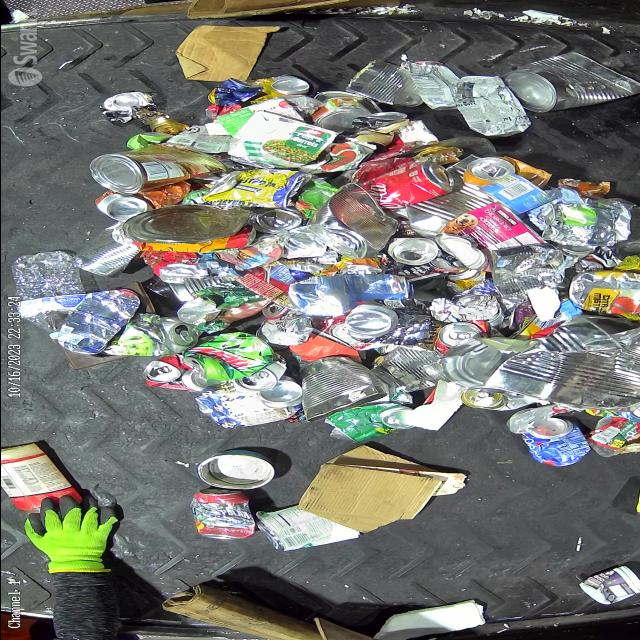can: (482, 313, 640, 412), (497, 51, 640, 113), (434, 202, 548, 272), (88, 143, 226, 195), (308, 182, 400, 260), (296, 355, 388, 421), (194, 375, 303, 429), (256, 504, 362, 551), (180, 331, 274, 381), (365, 160, 454, 210), (204, 168, 312, 208), (488, 243, 566, 297), (93, 180, 190, 222), (369, 346, 450, 394), (346, 59, 421, 107), (518, 416, 590, 466), (196, 448, 276, 491), (190, 488, 256, 540), (538, 201, 614, 246), (323, 404, 412, 442), (476, 172, 552, 215), (126, 314, 200, 356), (207, 75, 303, 107), (460, 155, 550, 189), (400, 61, 460, 110), (140, 354, 217, 392), (70, 242, 138, 278), (310, 96, 372, 132), (232, 352, 286, 390), (343, 303, 398, 338), (97, 91, 155, 123), (458, 387, 534, 411), (340, 110, 406, 136), (434, 320, 484, 354), (377, 237, 437, 264), (147, 112, 190, 134), (263, 74, 307, 95), (424, 250, 466, 272)
plastic_bottle: (13, 250, 85, 340)
